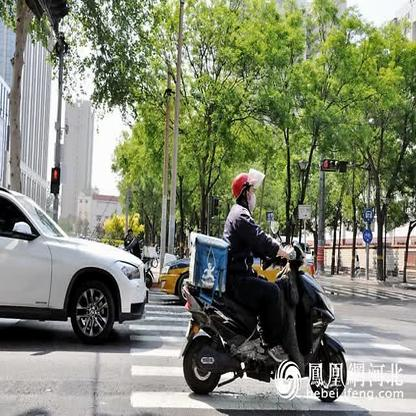target: (181, 168, 349, 403)
